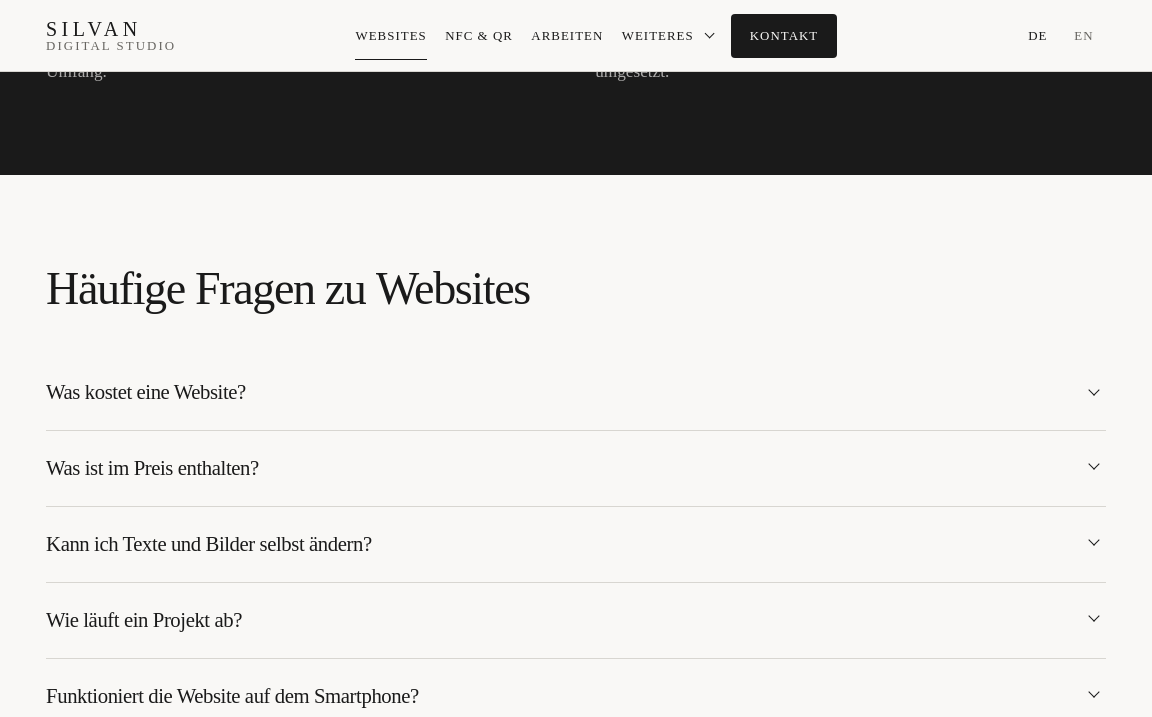
Test: service page FAQs › renders every websites (de) question with an accessible answer disclosure
This screenshot has width=1152, height=717.
(page scrolled)
Expected: the heading "Häufige Fragen zu Websites" is shown, [46, 263, 530, 314]
Click the heading "Was kostet eine Website?" at x=146, y=392, box [46, 381, 246, 403]
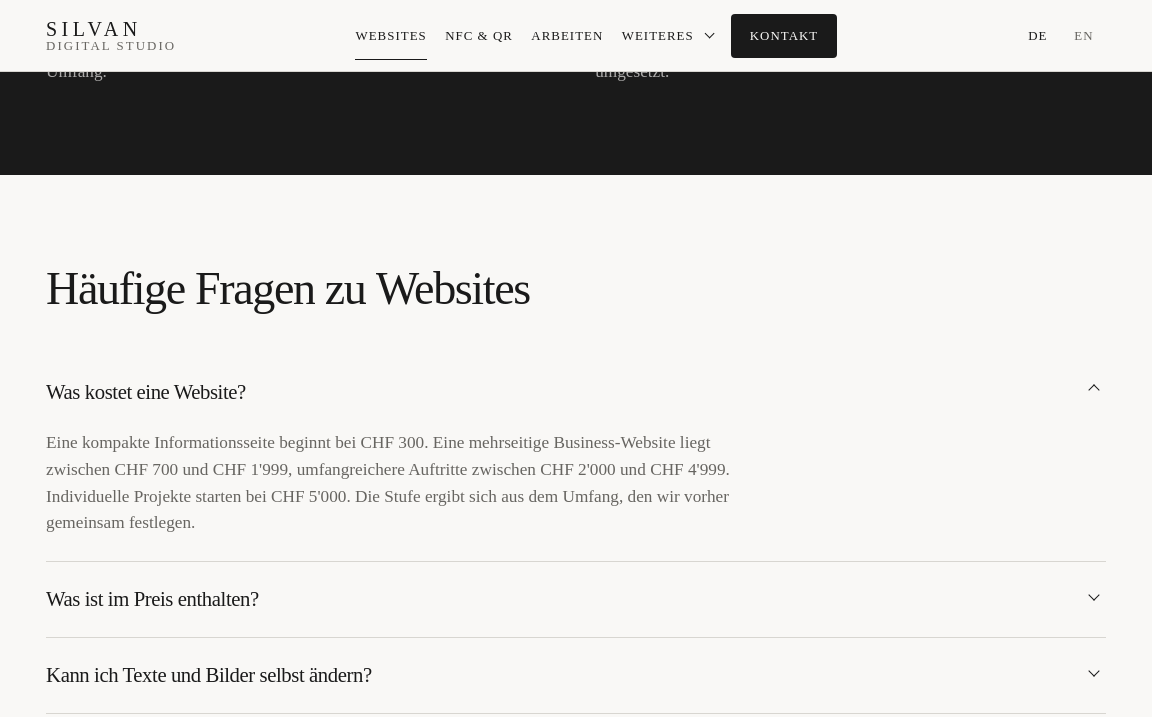
Expected: the text "Eine kompakte Informationsseite beginnt bei CHF 300. Eine mehrseitige Business-Website liegt zwischen CHF 700 und CHF 1'" is shown, [46, 433, 730, 532]
Click the heading "Was ist im Preis enthalten?" at x=152, y=599, box [46, 588, 259, 610]
(page scrolled)
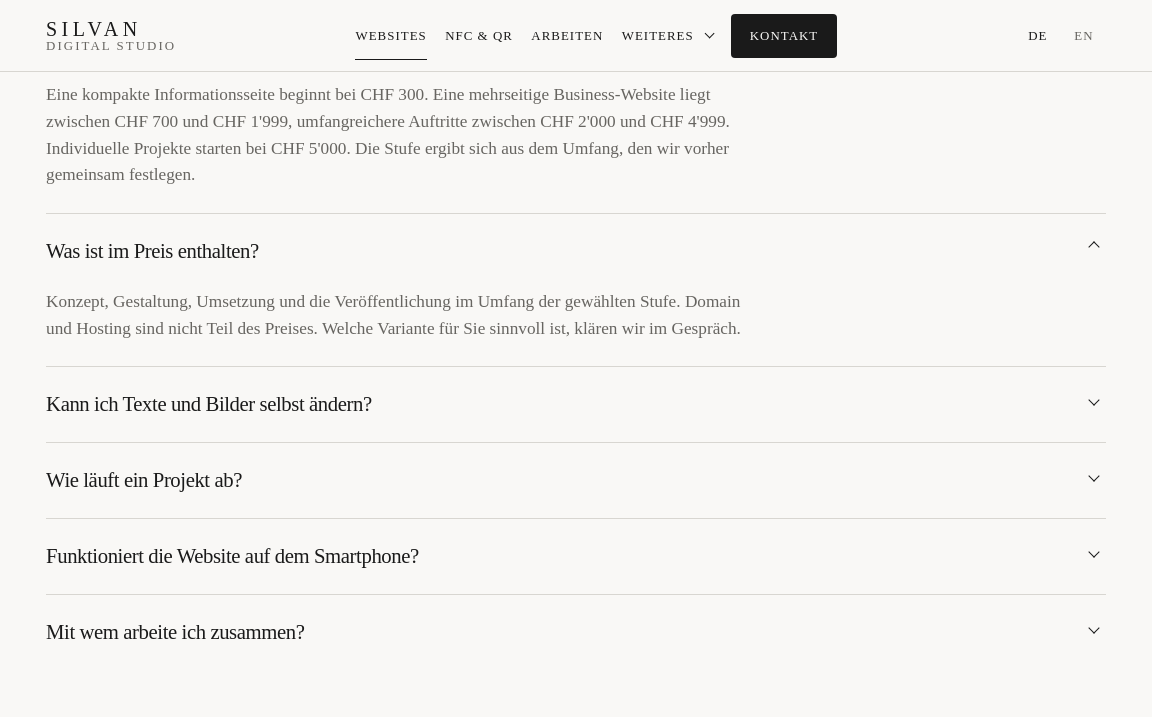
Expected: the text "Konzept, Gestaltung, Umsetzung und die Veröffentlichung im Umfang der gewählten Stufe. Domain und Hosting sind nicht Tei" is shown, [46, 292, 741, 338]
Click the heading "Kann ich Texte und Bilder selbst ändern?" at x=209, y=404, box [46, 393, 372, 415]
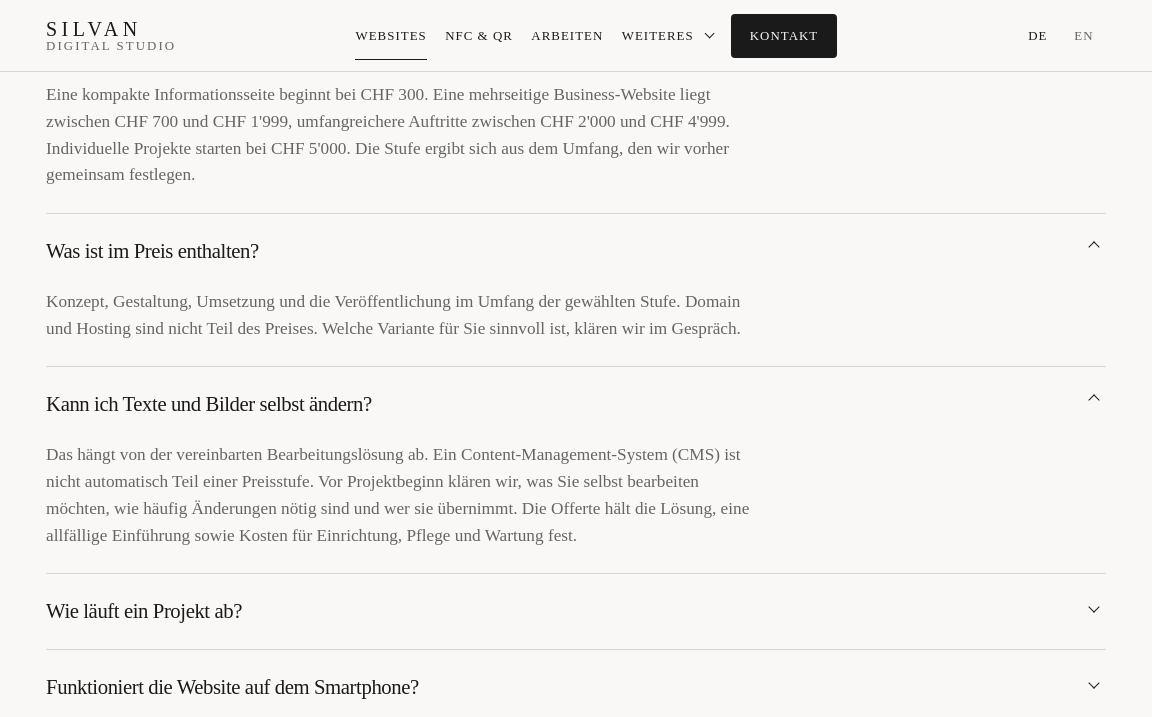
Expected: the text "Das hängt von der vereinbarten Bearbeitungslösung ab. Ein Content-Management-System (CMS) ist nicht automatisch Teil ein" is shown, [46, 445, 749, 545]
Click the heading "Wie läuft ein Projekt ab?" at x=144, y=611, box [46, 600, 242, 622]
(page scrolled)
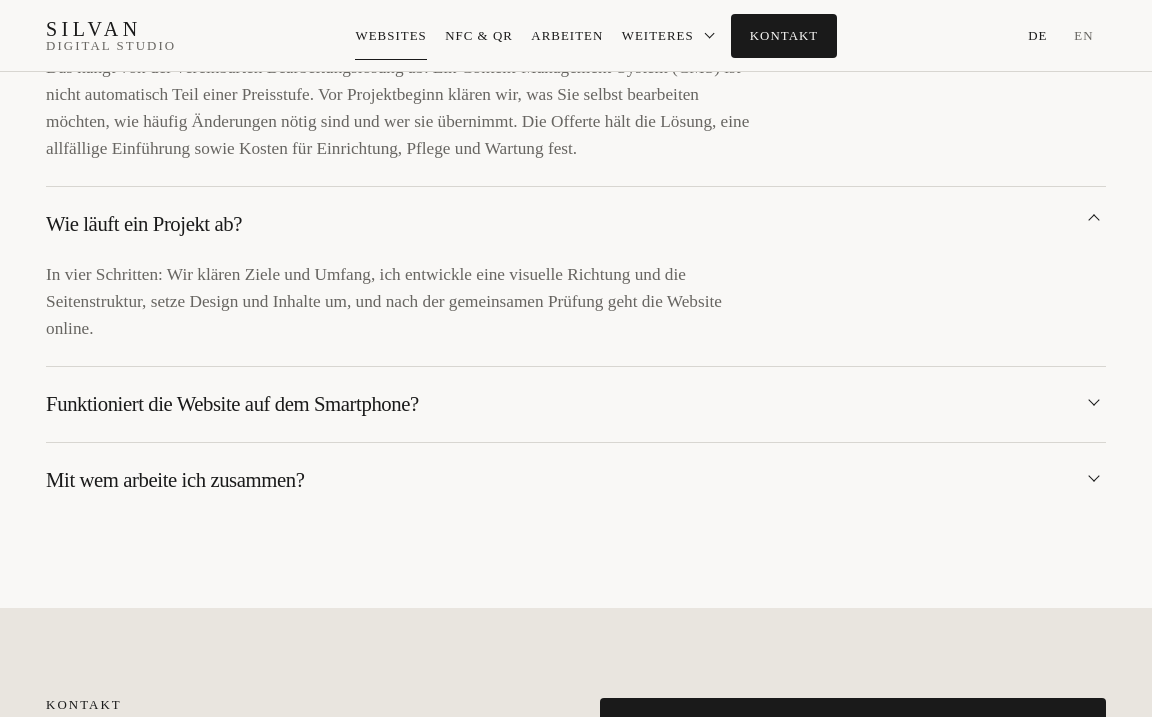
Expected: the text "In vier Schritten: Wir klären Ziele und Umfang, ich entwickle eine visuelle Richtung und die Seitenstruktur, setze Desig" is shown, [46, 265, 722, 338]
Click the heading "Funktioniert die Website auf dem Smartphone?" at x=232, y=404, box [46, 394, 419, 416]
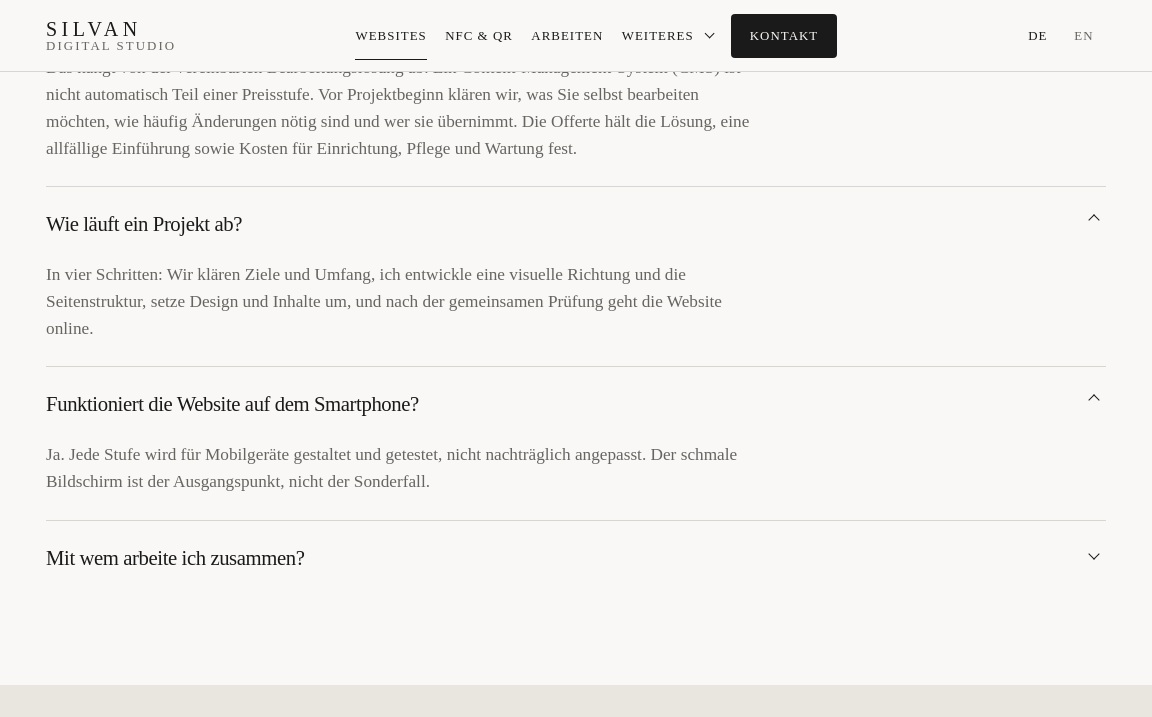
Expected: the text "Ja. Jede Stufe wird für Mobilgeräte gestaltet und getestet, nicht nachträglich angepasst. Der schmale Bildschirm ist der" is shown, [46, 445, 737, 491]
Click the heading "Mit wem arbeite ich zusammen?" at x=175, y=558, box [46, 547, 304, 569]
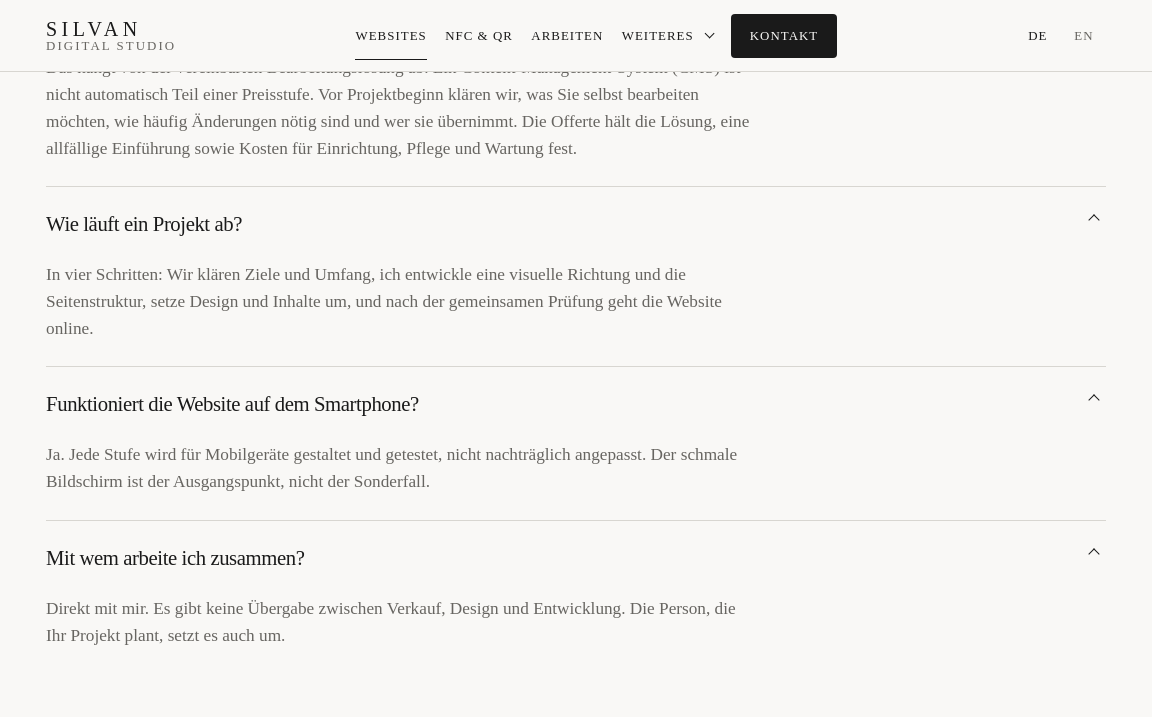
Expected: the text "Direkt mit mir. Es gibt keine Übergabe zwischen Verkauf, Design und Entwicklung. Die Person, die Ihr Projekt plant, setz" is shown, [46, 599, 736, 645]
